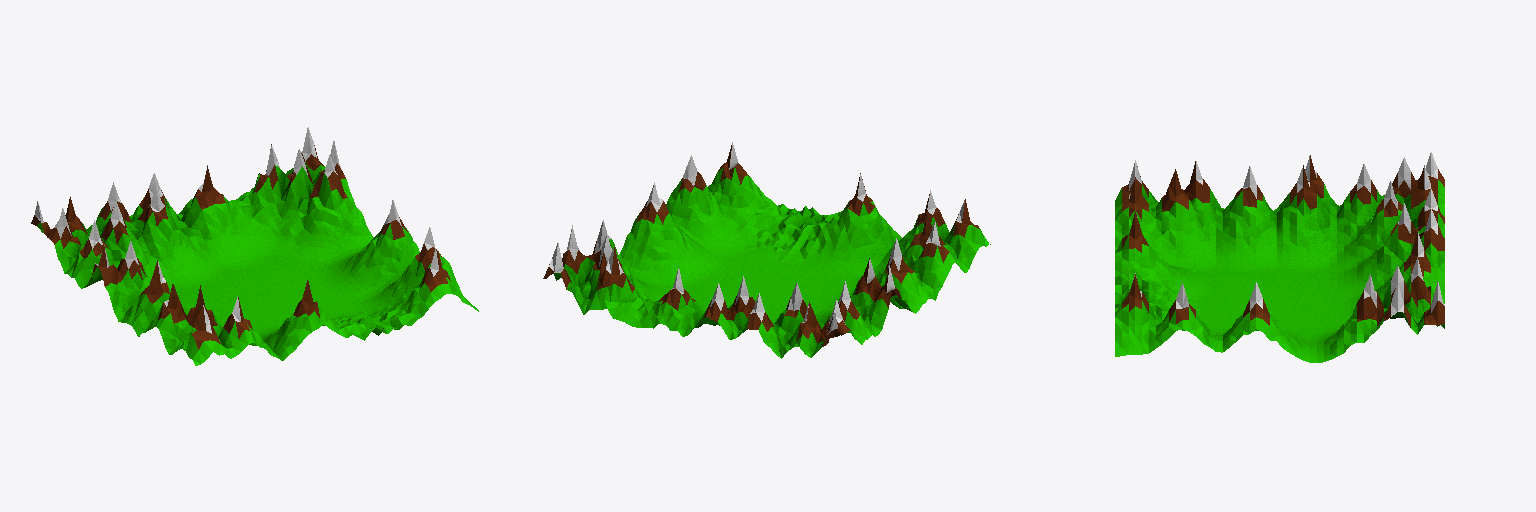
The picture shows the model from 3 angles: view 1: azimuth 30°, elevation 25°; view 2: azimuth 150°, elevation 25°; view 3: azimuth 270°, elevation 25°; orthographic projection.
Visible parts, largest first — view 1: Grid; view 2: Grid; view 3: Grid.
Part boxes in pixels (x1,y1,x2,y2): Grid: (31, 127, 478, 365); Grid: (543, 142, 990, 358); Grid: (1115, 152, 1444, 362).
Size of the model in its own units: 20 by 5.45 by 20.
Materials: 1 (1 with a texture image).